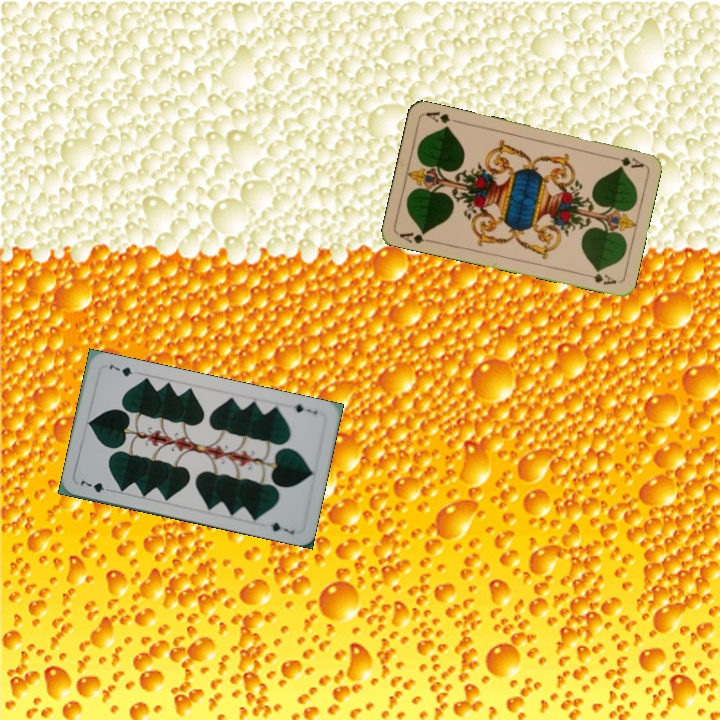G7: (76, 476, 115, 495), (290, 399, 320, 417)
GA: (395, 227, 436, 246), (606, 152, 646, 171)
